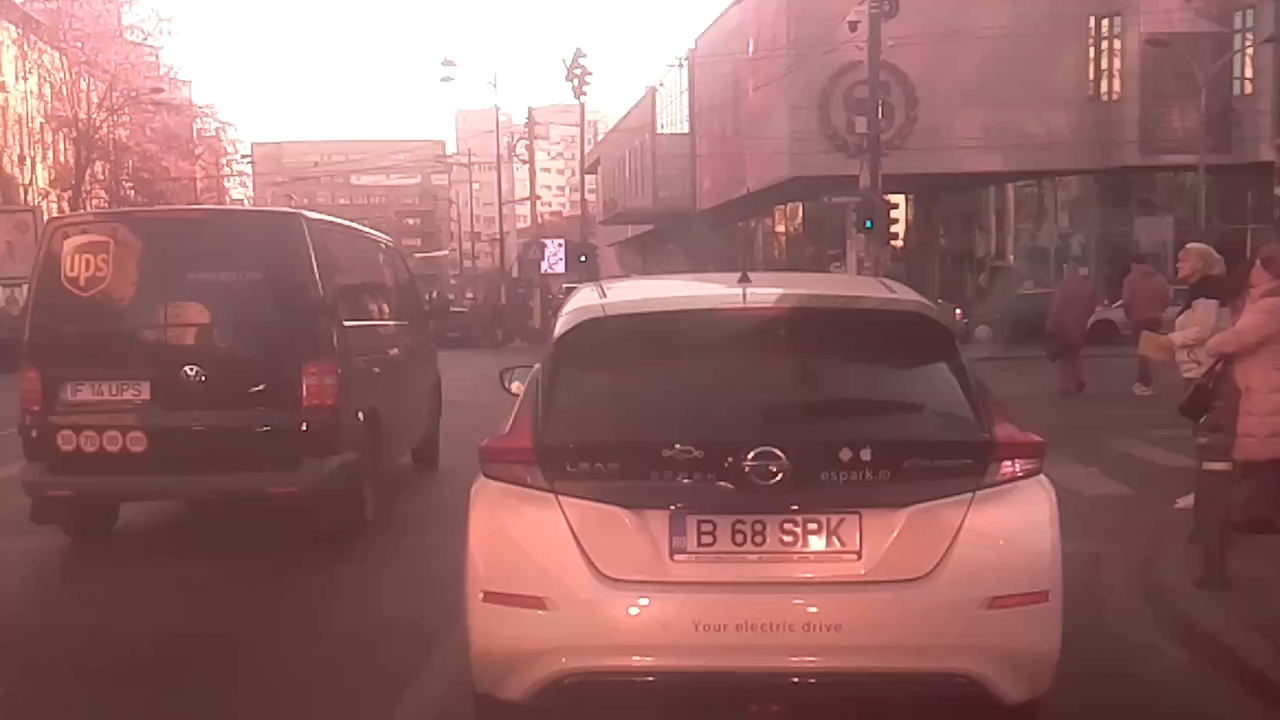license-plate: (663, 504, 866, 564), (54, 377, 154, 405)
